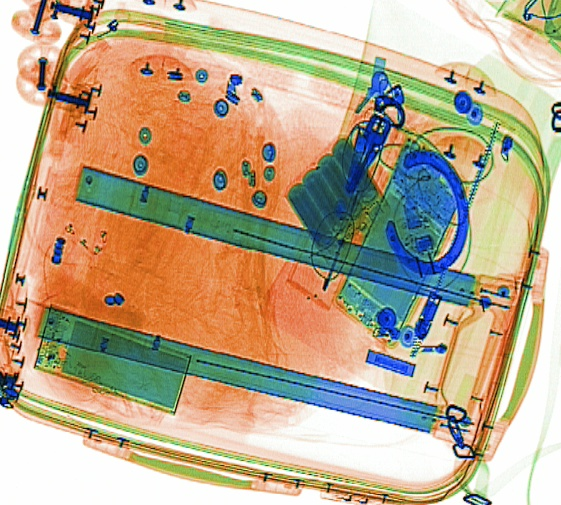powerbank: (283, 133, 393, 266)
